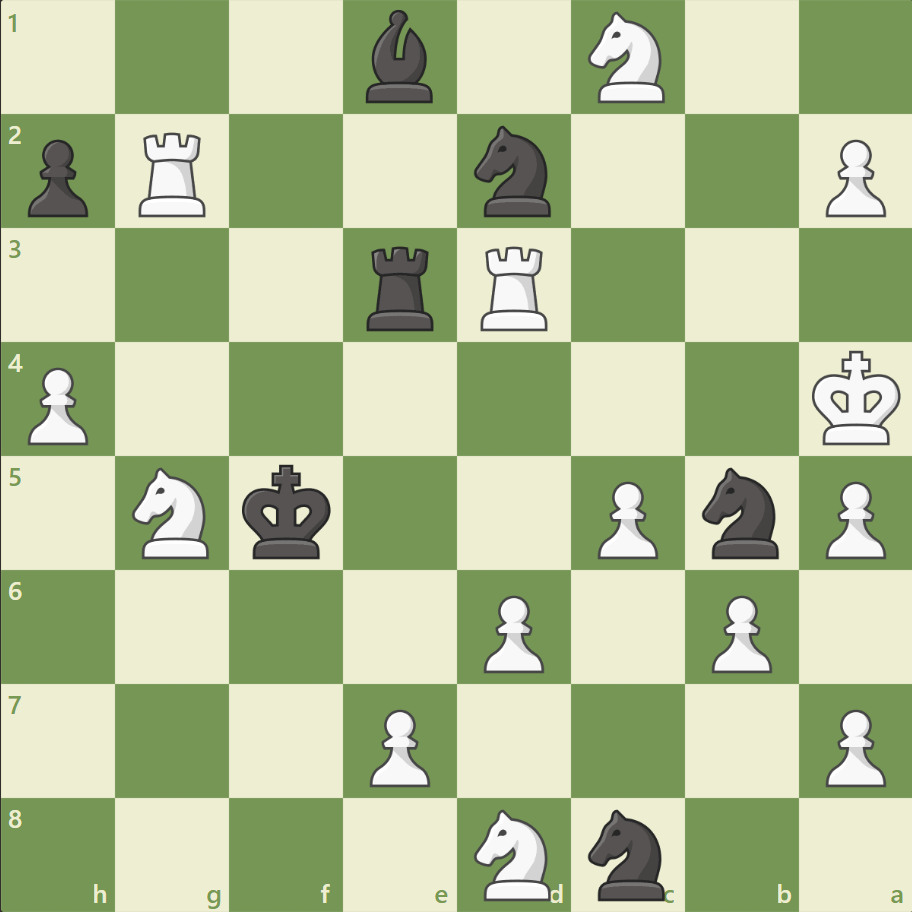K: (806, 344, 906, 452)
N: (124, 461, 222, 564), (579, 7, 676, 110), (465, 802, 562, 904)
P: (701, 586, 776, 677), (474, 586, 549, 677), (20, 359, 95, 450), (815, 700, 889, 791), (361, 700, 435, 791), (815, 473, 889, 564), (588, 473, 662, 564), (815, 132, 889, 223)
R: (473, 239, 556, 336), (133, 125, 215, 222)
b: (358, 6, 442, 109)
k: (238, 458, 338, 566)
n: (692, 461, 789, 564), (579, 802, 676, 904), (465, 121, 562, 223)
p: (20, 132, 95, 223)
r: (360, 239, 442, 336)
